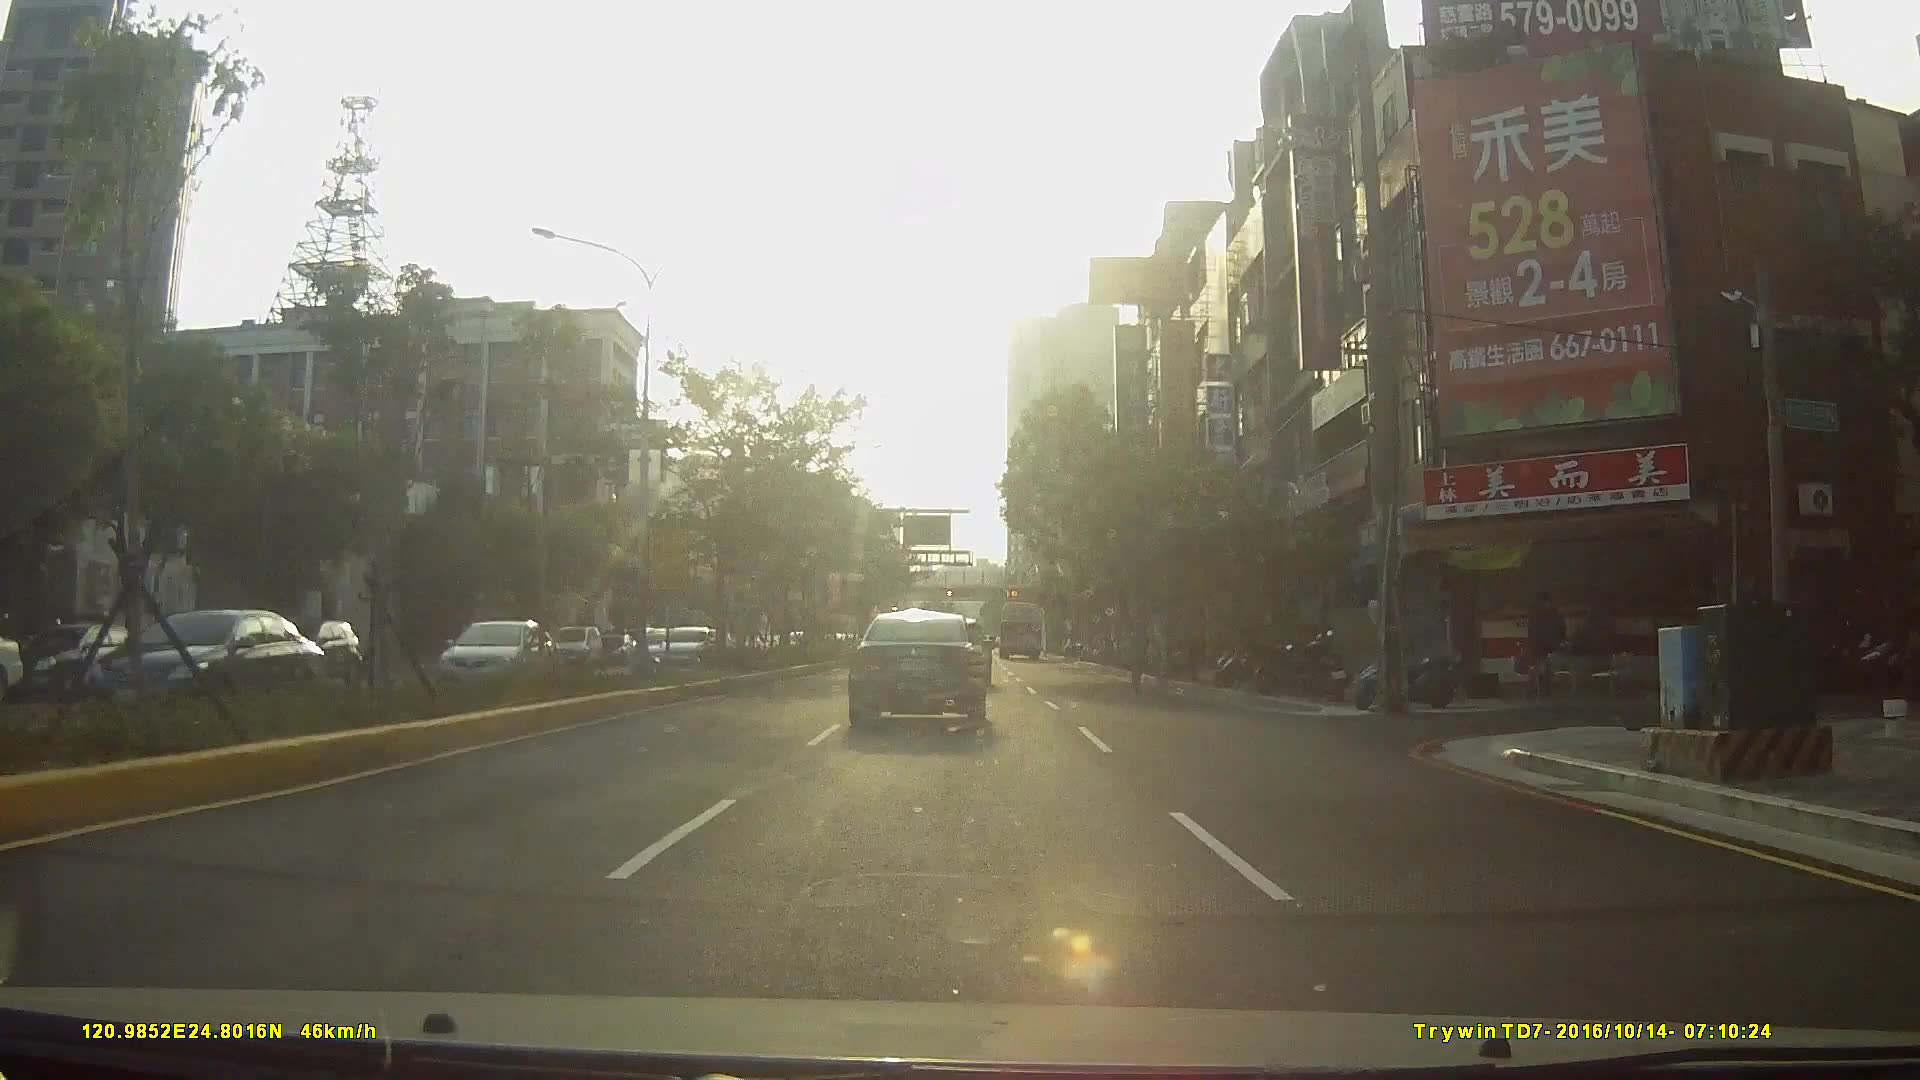pedestrian: (1123, 611, 1159, 689)
vehicle: (78, 605, 320, 737), (846, 607, 990, 731), (423, 605, 555, 713), (10, 620, 150, 703), (262, 617, 358, 687), (636, 624, 725, 671), (998, 598, 1043, 659), (549, 622, 601, 667)
